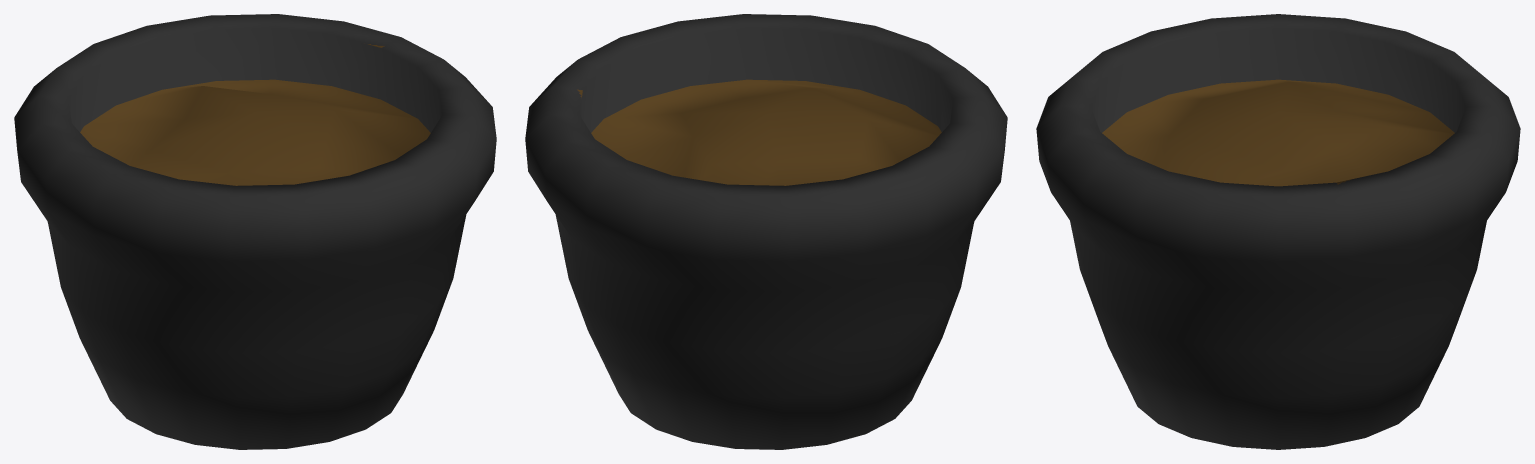
File: plant_pot.gltf
3 views of the same model, side by side, from view 1: azimuth 30°, elevation 25°; view 2: azimuth 150°, elevation 25°; view 3: azimuth 270°, elevation 25° (orthographic).
Visible parts, largest first — view 1: Cylinder; view 2: Cylinder; view 3: Cylinder.
Part boxes in pixels (<box>): Cylinder: <box>14,14,496,449</box>; Cylinder: <box>525,14,1007,449</box>; Cylinder: <box>1036,14,1520,449</box>.
Size of the model in its own units: 1.1 by 0.7028 by 1.1.
Materials: 1 (1 with a texture image).
